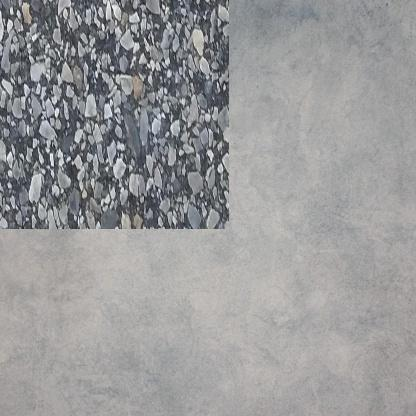Cracks: (197, 30, 211, 69)
